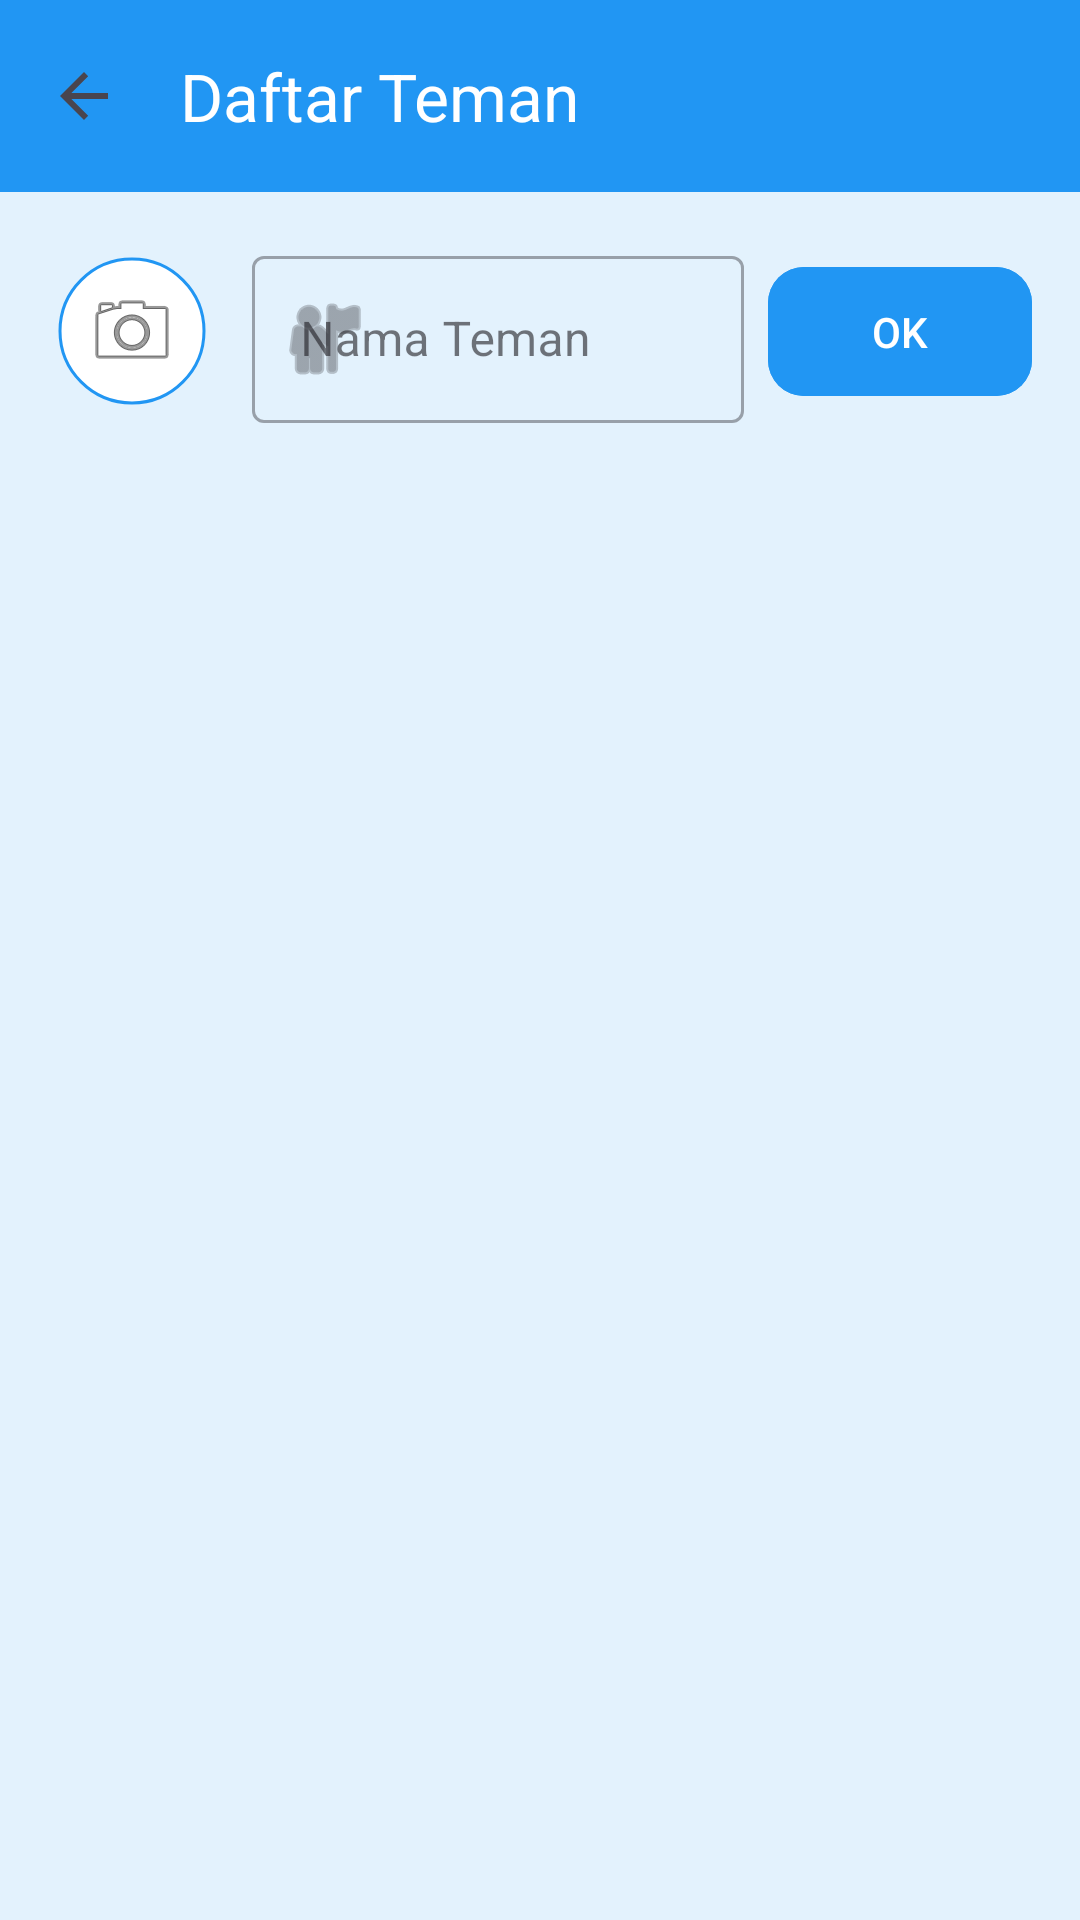

Icon click points for this 1080px x 1920px phone screenshot, format [x,y]:
camera: [132,331]
